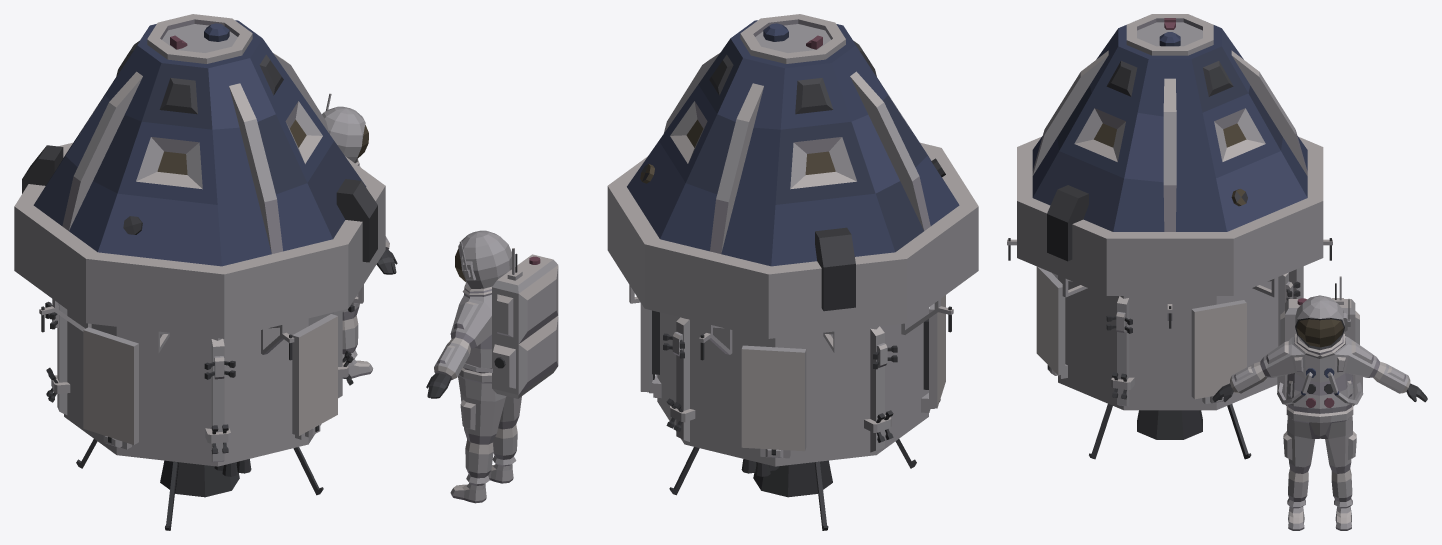
3 views of the same model, side by side, from view 1: azimuth 30°, elevation 25°; view 2: azimuth 150°, elevation 25°; view 3: azimuth 270°, elevation 25° (orthographic). The views are drawn at different scales.
Visible parts, largest first — view 1: Crew Module_1, Astronaut_0; view 2: Crew Module_1, Astronaut_0; view 3: Crew Module_1, Astronaut_0.
Boxes of the visible parts, box(x1,y1,x2,y2) form: Crew Module_1: box(14, 14, 385, 530); Astronaut_0: box(322, 93, 397, 378); Crew Module_1: box(607, 14, 978, 530); Astronaut_0: box(426, 230, 558, 503); Crew Module_1: box(1007, 14, 1332, 459); Astronaut_0: box(1212, 276, 1427, 530).
Size of the model in its own units: 3.68 by 3.87 by 3.7.
